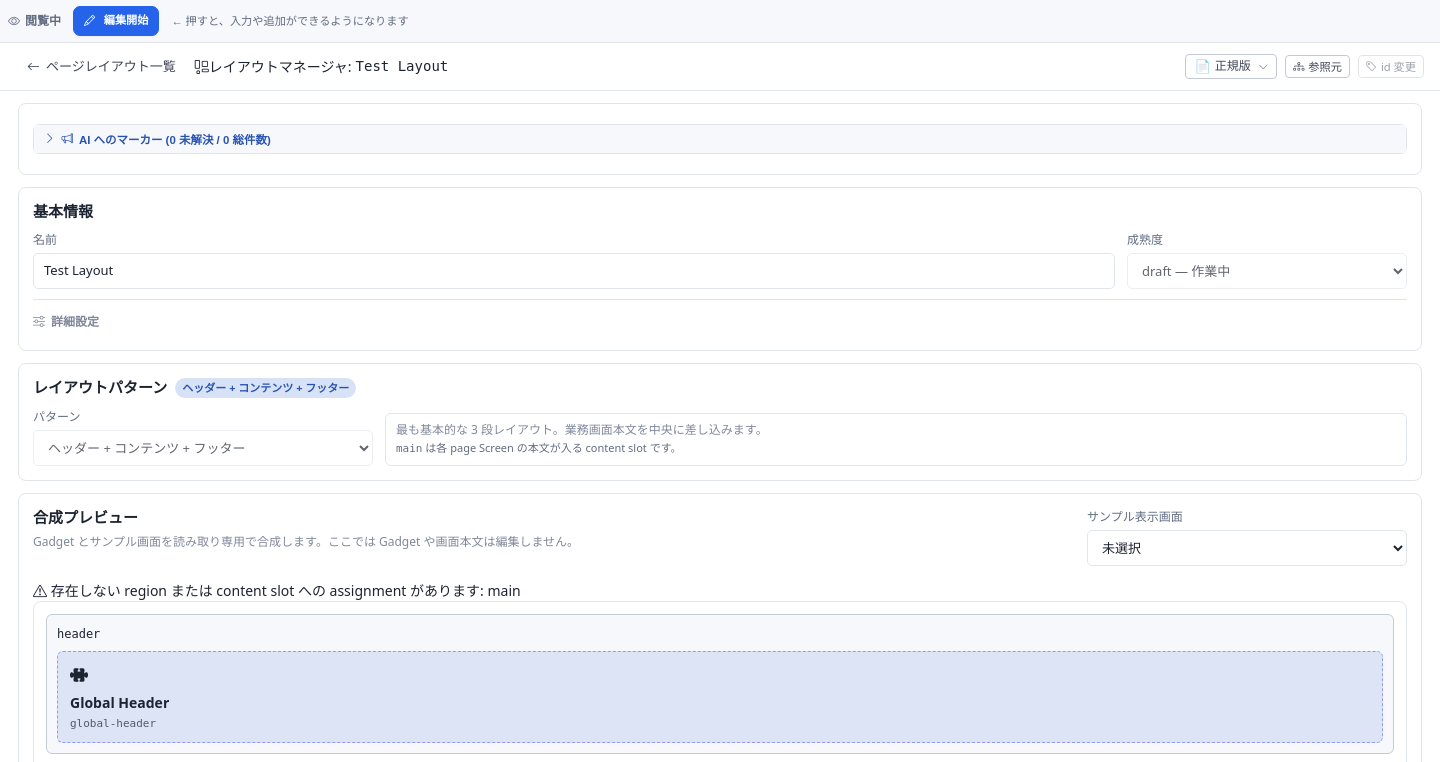
Test: PageLayoutEditor › renders selected sample page design body in the content slot
Select "Dashboard" in the dropdown with test id "page-layout-sample-page-select" at (1247,548), box top-left (1087, 530), bottom-right (1407, 566)
(page scrolled)
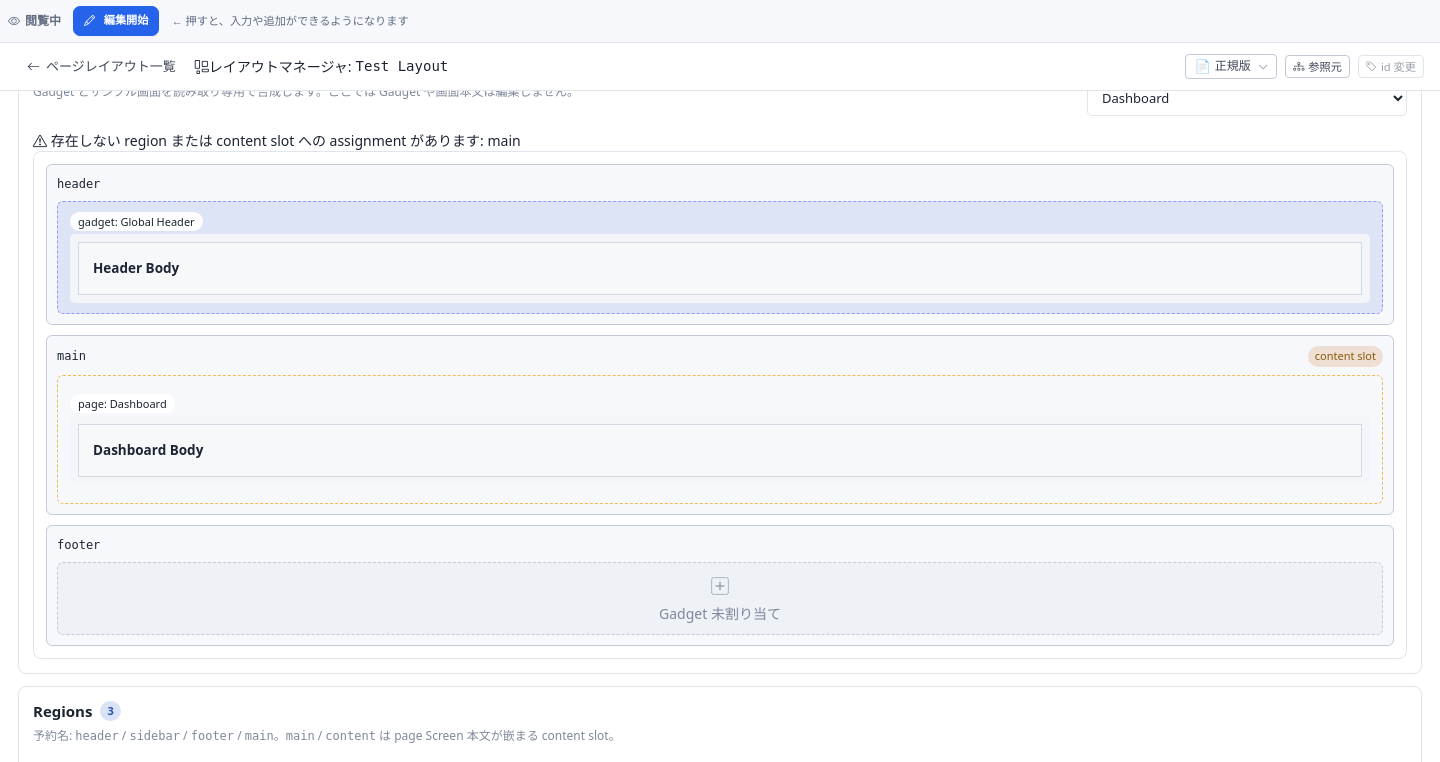
Now the text "Dashboard Body" is shown, box top-left (93, 441), bottom-right (203, 459)
